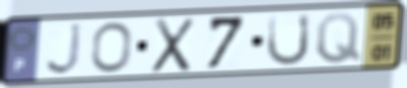7: (203, 14, 249, 72)
J: (44, 21, 86, 77)
O: (90, 20, 134, 75)
Q: (314, 11, 363, 66)
U: (264, 11, 313, 69)
X: (149, 15, 198, 76)
